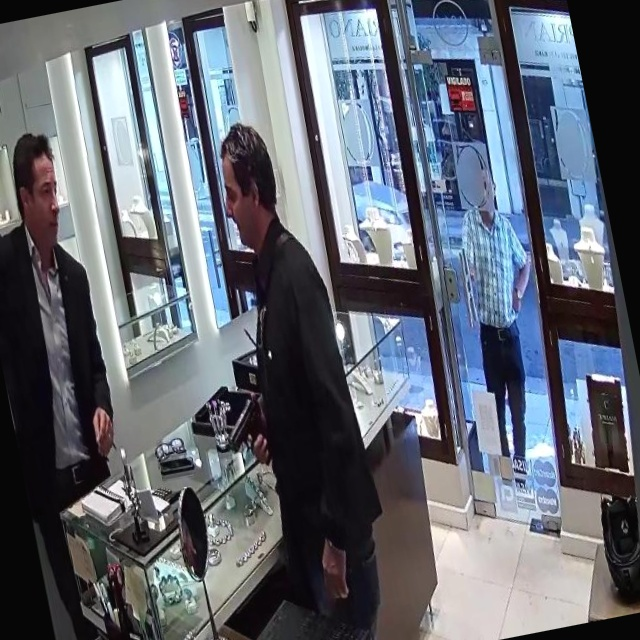gun: (204, 369, 282, 498)
